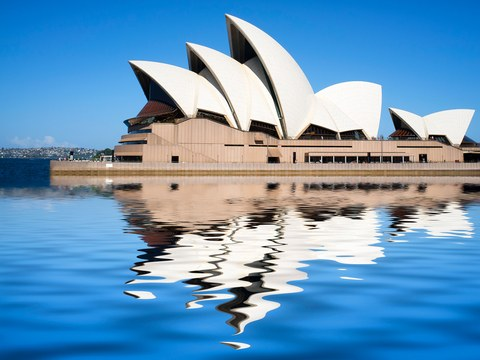opera house: (87, 4, 476, 176)
